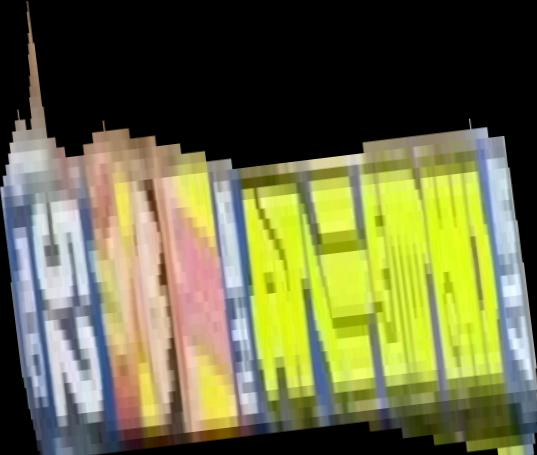flat: (1, 1, 537, 455)
